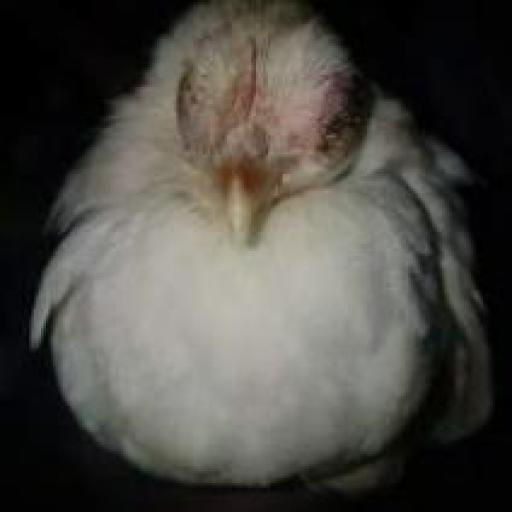disease: (303, 82, 373, 160), (172, 63, 230, 142)
